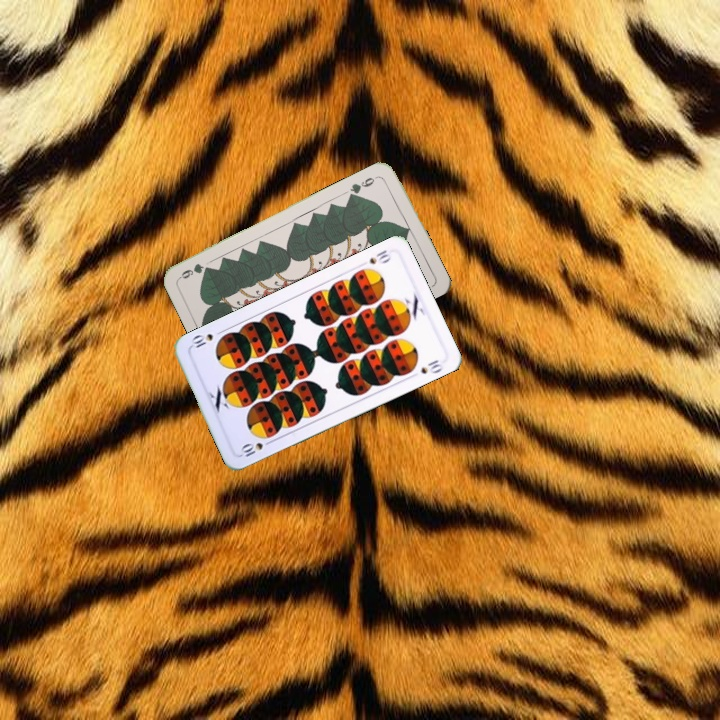G9: (344, 171, 382, 198)
S10: (236, 436, 276, 459), (365, 246, 394, 267)
